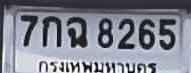2: (117, 17, 134, 48)
5: (158, 18, 175, 48)
6: (138, 18, 154, 48)
7: (20, 14, 37, 46)
8: (97, 16, 112, 46)
A01: (42, 15, 61, 46)
A09: (66, 16, 87, 46)
BKK: (34, 56, 160, 73)
